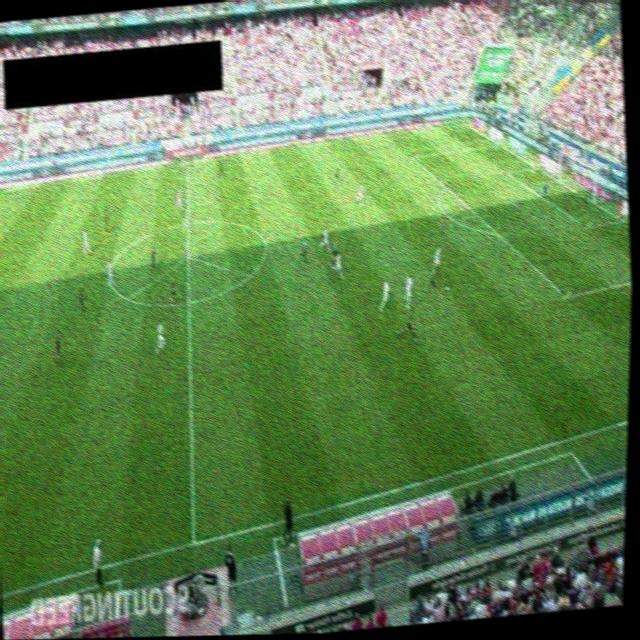bigarea_bottom_inner: (559, 290, 572, 303)
bigarea_top_inner: (404, 149, 419, 162)
bigarea_top_outter: (493, 139, 507, 151)
bottom_arc_area_intersection: (491, 227, 504, 240)
corner: (455, 117, 470, 131)
halfcircle_bottom: (181, 294, 196, 307)
halfcircle_top: (180, 217, 193, 229)
midline_bottom_intersection: (184, 535, 202, 551)
midline_top_intersection: (180, 155, 193, 168)
smallarea_bottom_inner: (578, 220, 592, 233)
smallarea_bottom_outter: (615, 214, 629, 227)
smallarea_top_inner: (499, 164, 513, 178)
smallarea_top_outter: (529, 160, 542, 174)
top_arc_area_intersection: (439, 181, 452, 194)
